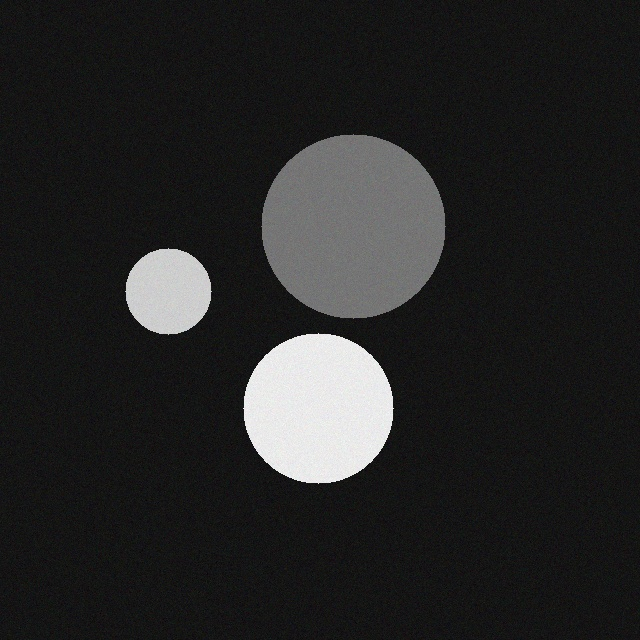circle: (261, 142, 445, 326), (243, 341, 393, 491), (125, 256, 211, 342)
